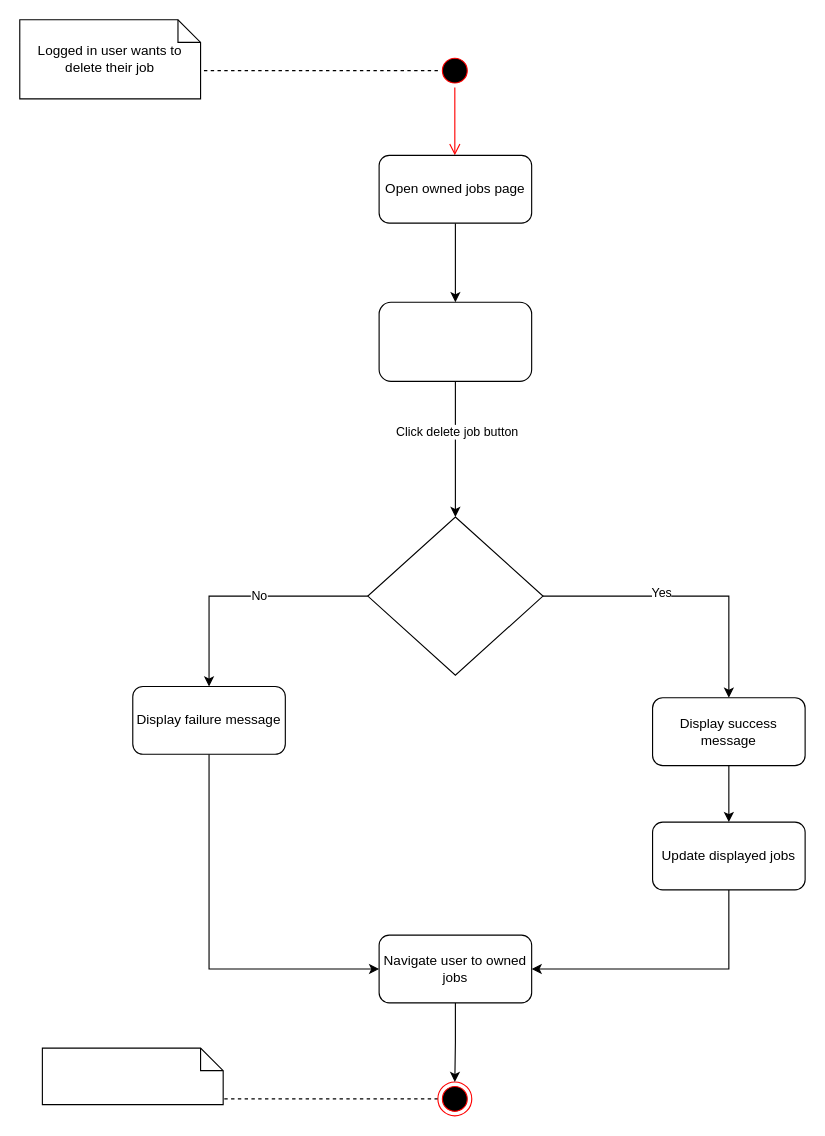
Some shapes in this 825 by 1136 pixel diagram are drawn without their labels. The shapes that lost their labels are listed below. From the top down, each one's centre as x and y in pixels, then its label:
At pixel 455 341: "Expand job information".
At pixel 455 595: "Job deleted successfully?".
At pixel 132 1076: "User at owned jobs page".
